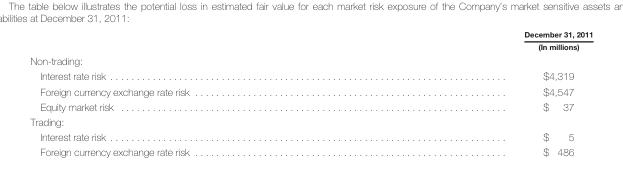table: (29, 29, 592, 157)
table column: (29, 29, 356, 157), (356, 29, 592, 157)
table column header: (29, 29, 592, 53)
table projected row header: (29, 113, 592, 129), (29, 53, 592, 68)
table row: (29, 29, 592, 53), (29, 113, 592, 129), (29, 53, 592, 68), (29, 68, 592, 83), (29, 83, 592, 98), (29, 98, 592, 113), (29, 129, 592, 144), (29, 144, 592, 157)
